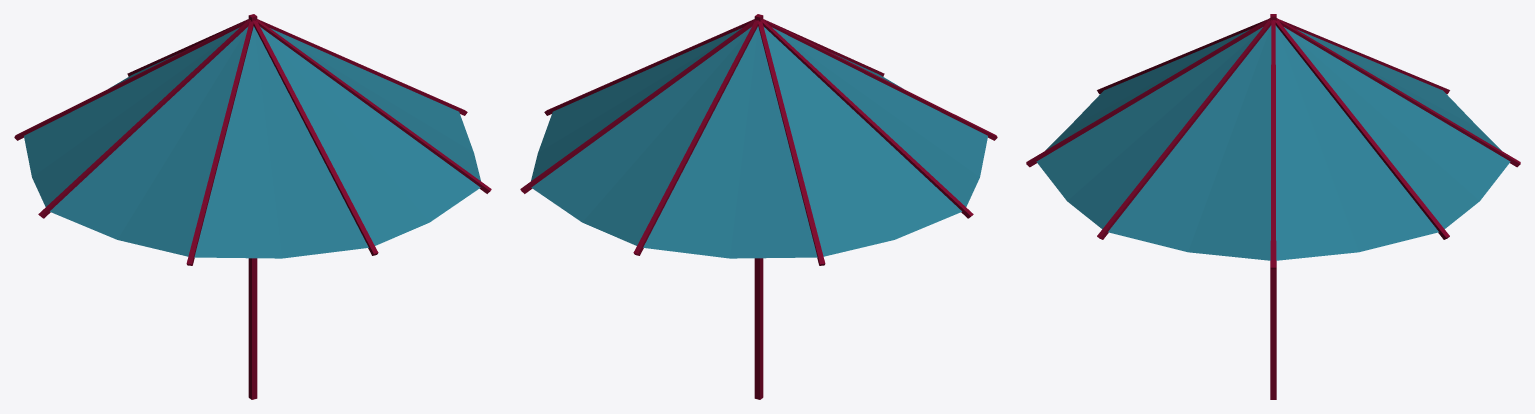
The model's file is umbrella_01.fbx.
3 renders of one model, left to right at view 1: azimuth 30°, elevation 25°; view 2: azimuth 150°, elevation 25°; view 3: azimuth 270°, elevation 25°, orthographic.
Visible parts, largest first — view 1: umbrella_01; view 2: umbrella_01; view 3: umbrella_01.
Part boxes in pixels (<box>): umbrella_01: <box>14,14,491,399</box>; umbrella_01: <box>520,14,997,399</box>; umbrella_01: <box>1026,14,1520,399</box>.
Bounding box in the file's own units: 3.66 × 3.14 × 3.66.
